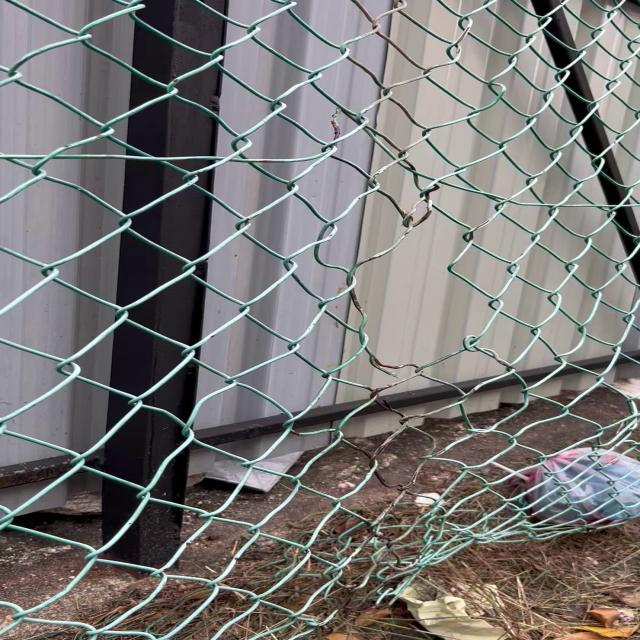fence line: (338, 206, 501, 375)
